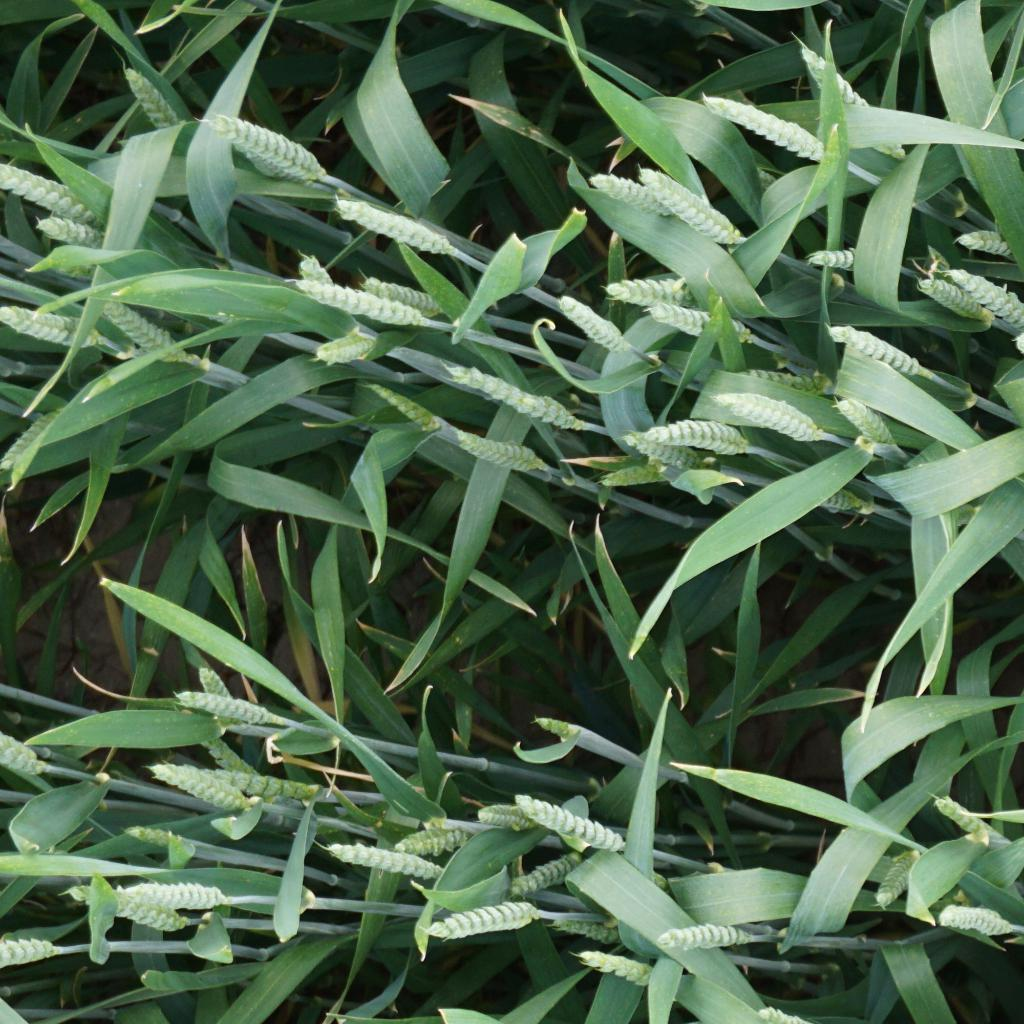0-0: (793, 39, 914, 168), (696, 93, 855, 175), (636, 166, 763, 255), (442, 360, 591, 434), (197, 109, 330, 185), (89, 292, 212, 370), (168, 761, 332, 817), (330, 194, 459, 260), (513, 795, 636, 860), (286, 276, 429, 329), (0, 298, 137, 353), (705, 389, 837, 442), (821, 322, 928, 386), (0, 160, 105, 225), (0, 403, 89, 474), (412, 895, 545, 941), (227, 134, 324, 193), (351, 272, 459, 324), (150, 760, 252, 815), (559, 289, 638, 359), (184, 726, 273, 788), (615, 426, 720, 478), (723, 367, 836, 415), (570, 954, 688, 999), (444, 425, 546, 476), (358, 379, 446, 438), (589, 172, 689, 223), (165, 689, 290, 729), (947, 268, 1024, 331), (644, 417, 760, 458), (119, 65, 182, 138), (316, 844, 450, 878), (875, 840, 933, 914), (598, 270, 700, 312), (189, 659, 246, 733), (87, 893, 200, 930), (830, 395, 903, 452), (932, 901, 1024, 944), (913, 275, 993, 324), (26, 214, 117, 255), (510, 849, 587, 896), (105, 882, 233, 910), (639, 298, 724, 339), (925, 791, 995, 838), (534, 909, 638, 940), (0, 732, 59, 786), (311, 329, 397, 366), (948, 227, 1024, 267), (391, 825, 483, 856), (796, 481, 876, 515), (116, 823, 188, 860), (807, 247, 896, 274), (655, 923, 755, 947), (474, 800, 548, 830), (295, 252, 338, 303), (0, 933, 58, 969), (525, 712, 585, 743)
